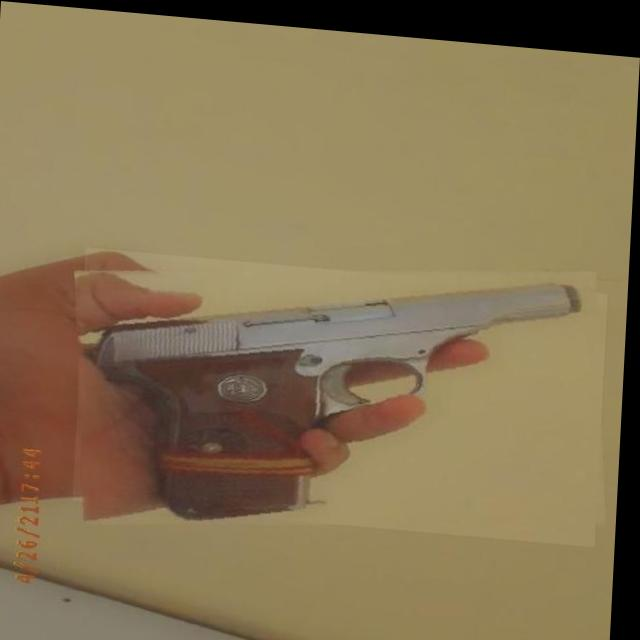handgun: (72, 233, 615, 546)
